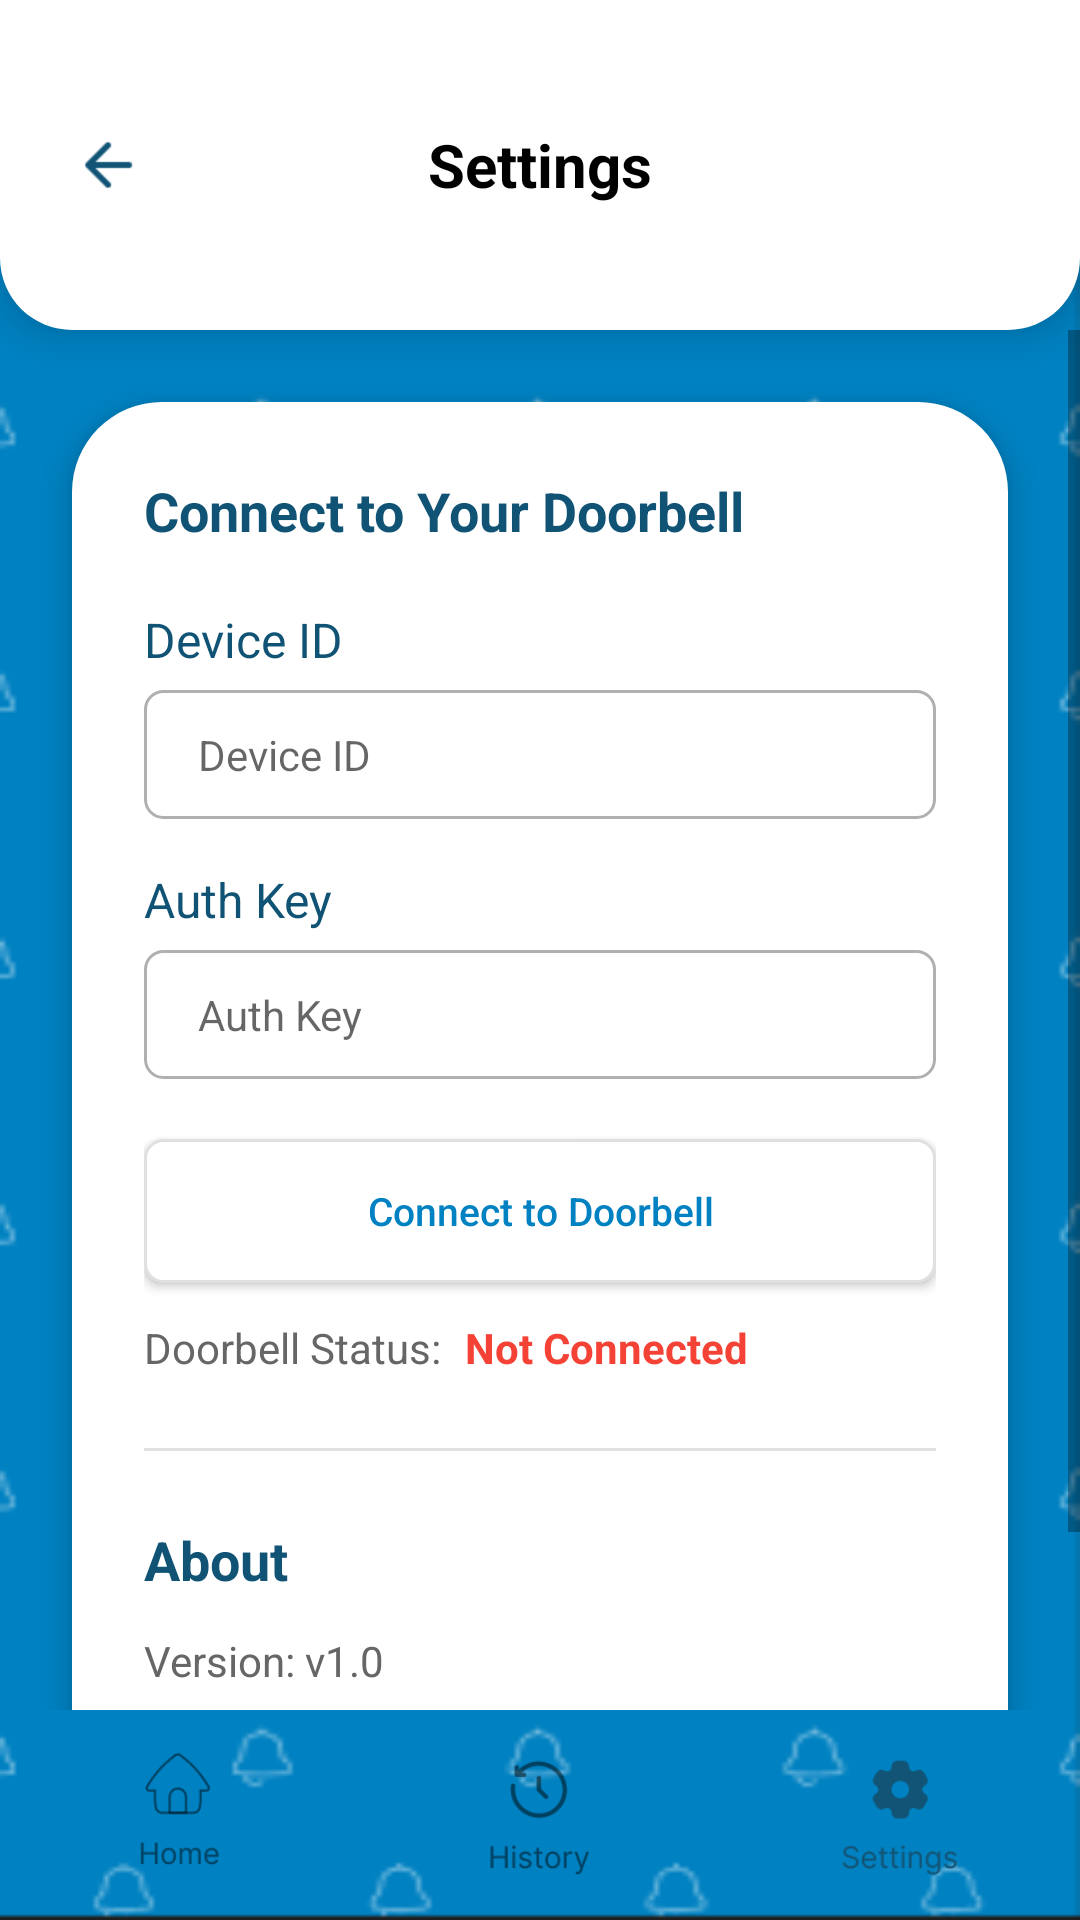

Icon click points for this 1080x1920 phone screenshot, format [x,y]:
Back: [109,165]
